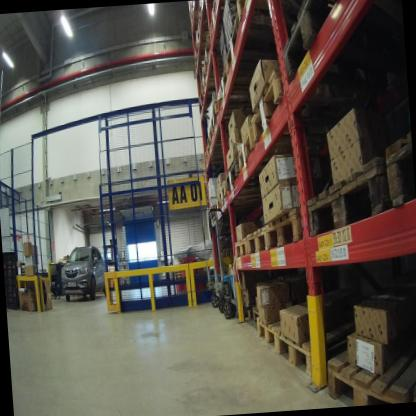forklift: (100, 235, 123, 293)
pallet: (248, 65, 374, 154), (272, 295, 390, 387), (276, 0, 391, 87), (297, 145, 390, 238), (325, 328, 416, 405), (218, 11, 302, 76), (235, 118, 331, 174), (219, 58, 280, 122), (257, 300, 327, 354), (383, 124, 414, 214), (263, 203, 306, 251), (210, 94, 255, 134), (218, 175, 266, 209), (225, 156, 266, 193), (201, 33, 234, 78), (204, 117, 242, 150), (204, 0, 237, 33), (199, 65, 230, 98), (233, 0, 275, 24), (242, 222, 268, 258), (195, 81, 222, 112), (202, 144, 233, 168), (250, 300, 273, 323), (233, 235, 249, 261), (215, 198, 221, 211), (175, 276, 183, 282), (174, 271, 183, 274), (175, 274, 183, 277)
pallet_truck: (209, 204, 250, 323), (199, 214, 221, 319), (207, 206, 225, 315)
small_load_carrier: (185, 273, 209, 302), (176, 250, 199, 278), (174, 274, 188, 298)
